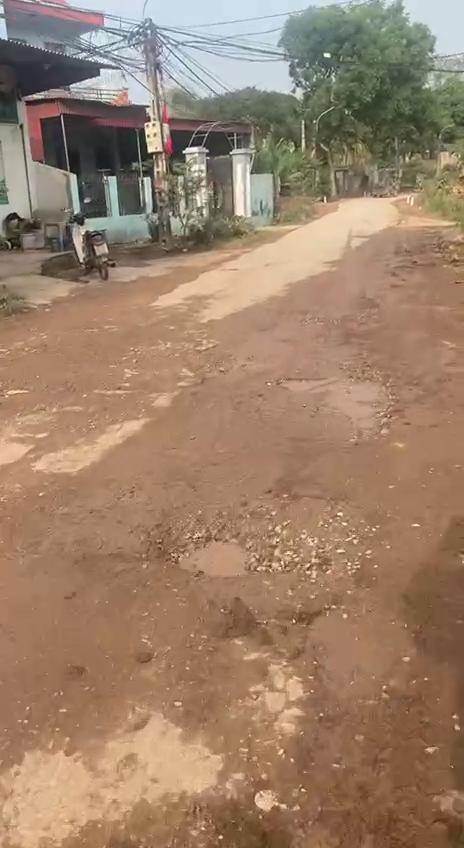pothole: (152, 491, 368, 586), (262, 602, 422, 693), (277, 366, 400, 443), (0, 378, 48, 418)
